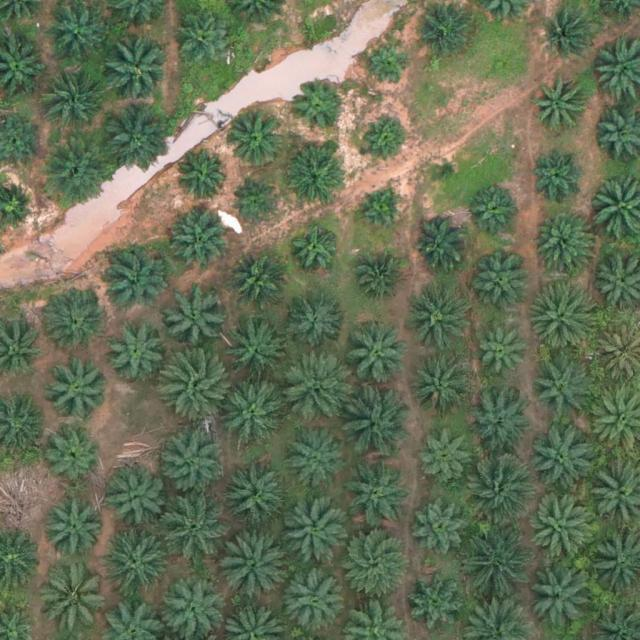Healthy: (97, 29, 168, 100), (42, 141, 112, 212), (100, 106, 170, 177), (463, 452, 533, 523), (461, 526, 531, 597), (341, 386, 411, 457), (337, 525, 408, 595), (279, 498, 350, 568), (280, 351, 350, 422), (161, 494, 231, 565), (157, 425, 227, 496), (161, 350, 231, 421), (99, 525, 169, 596), (38, 67, 108, 137), (530, 283, 600, 353), (221, 529, 291, 599), (42, 565, 112, 635), (282, 150, 345, 213), (345, 325, 408, 388), (167, 214, 230, 277), (165, 286, 228, 349), (44, 288, 107, 351), (532, 359, 595, 422), (532, 500, 595, 563), (404, 569, 467, 632), (344, 464, 407, 527), (284, 569, 347, 632), (220, 382, 283, 445), (45, 498, 108, 561), (47, 357, 110, 420), (534, 212, 596, 275), (472, 254, 534, 317), (104, 320, 167, 382), (102, 248, 164, 311), (531, 433, 593, 496), (469, 394, 531, 457), (412, 495, 475, 557), (284, 426, 346, 489), (285, 289, 347, 352), (223, 465, 285, 528), (105, 468, 167, 531), (415, 3, 477, 65), (408, 289, 470, 351), (529, 567, 591, 629), (410, 354, 472, 416), (227, 324, 289, 386), (535, 77, 590, 133), (178, 11, 233, 66), (543, 9, 598, 64), (352, 256, 407, 311), (532, 150, 587, 205), (474, 329, 529, 384), (467, 179, 522, 234), (415, 216, 470, 271), (175, 150, 230, 205), (420, 429, 475, 484), (47, 427, 102, 482), (293, 80, 347, 135), (230, 255, 284, 310), (227, 111, 281, 166)
Small: (291, 226, 338, 274), (357, 188, 404, 236), (361, 115, 408, 163), (368, 40, 415, 88), (235, 183, 282, 230), (431, 154, 462, 185)
